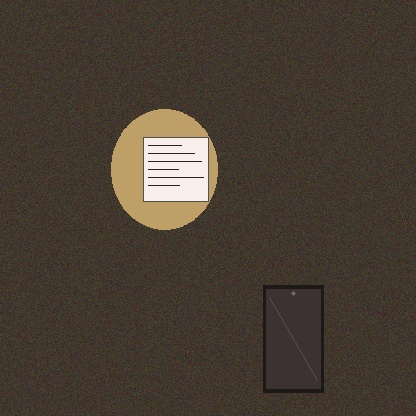cell_phone: (263, 285, 323, 392)
exam_chit: (143, 137, 208, 201)
